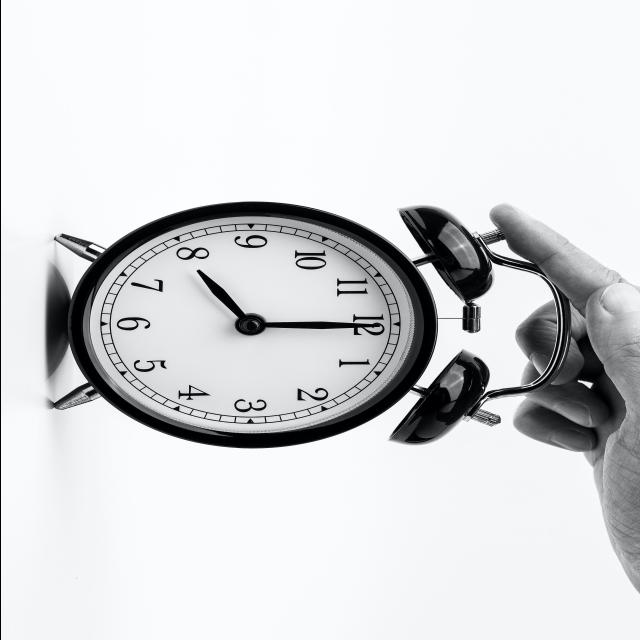clock: (76, 84, 621, 526)
